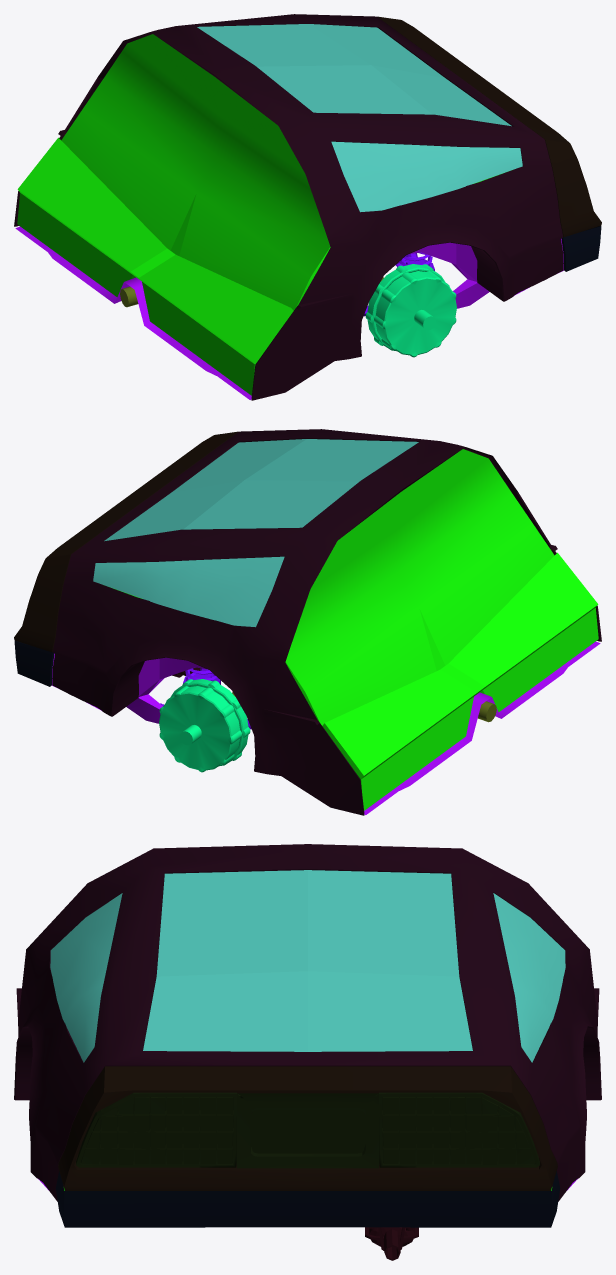
Rendered from mashina.FBX.
The picture shows the model from 3 angles, top to bottom: view 1: azimuth 30°, elevation 25°; view 2: azimuth 150°, elevation 25°; view 3: azimuth 270°, elevation 25°; orthographic projection. The views are drawn at different scales.
Visible parts, largest first — view 1: salon, obshivka, steklo, Krep_diskov, Z_chast, dno, bamper; view 2: salon, obshivka, steklo, Krep_diskov, Z_chast, dno, bamper; view 3: steklo, obshivka, fari, Z_chast, bamper, glushitel.
Part boxes in pixels (x1,y1,x2,y2): salon: [17, 34, 502, 395]; obshivka: [14, 14, 563, 400]; steklo: [197, 24, 522, 212]; Krep_diskov: [365, 264, 456, 357]; Z_chast: [377, 16, 601, 237]; dno: [15, 226, 563, 399]; bamper: [561, 225, 601, 271]; salon: [113, 449, 598, 810]; obshivka: [52, 429, 601, 815]; steklo: [93, 439, 418, 627]; Krep_diskov: [159, 679, 250, 772]; Z_chast: [14, 431, 238, 652]; dno: [52, 641, 600, 814]; bamper: [14, 640, 54, 686]; steklo: [50, 870, 565, 1062]; obshivka: [14, 844, 601, 1201]; fari: [76, 1092, 539, 1168]; Z_chast: [58, 1066, 557, 1190]; bamper: [55, 1171, 560, 1227]; glushitel: [365, 1227, 418, 1260].
Bounding box in the file's own units: 23.68 × 13.36 × 25.41.
